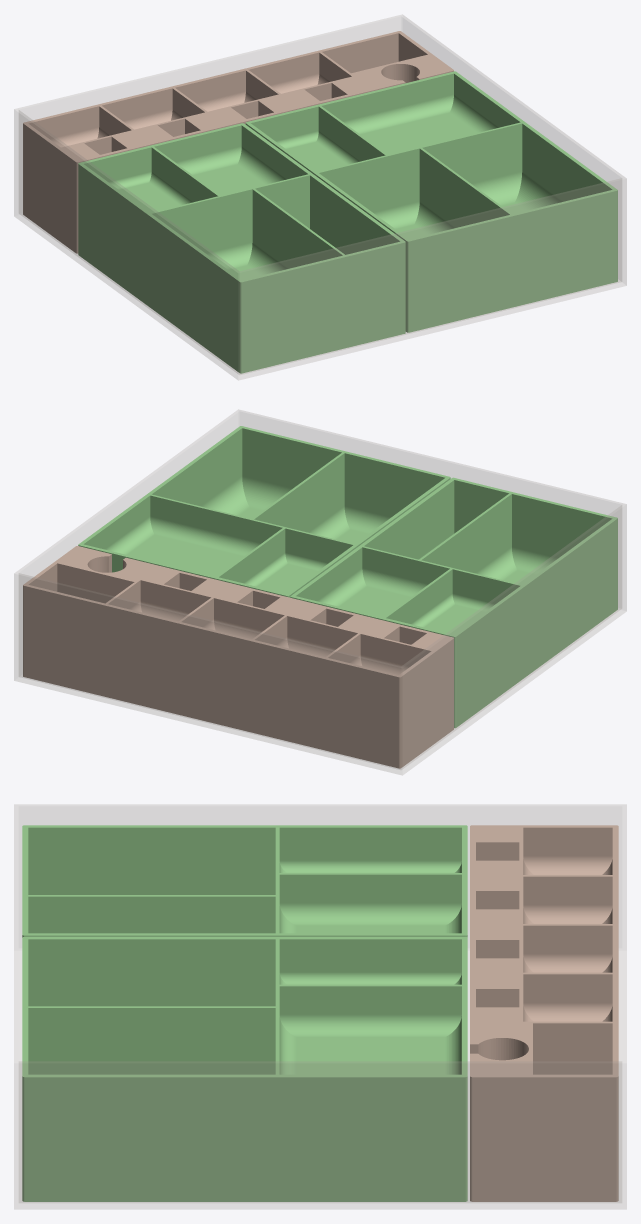
Rendered from organizer.glb.
3 renders of one model, top to bottom at view 1: azimuth 30°, elevation 25°; view 2: azimuth 150°, elevation 25°; view 3: azimuth 270°, elevation 25°, orthographic. The views are drawn at different scales.
Visible parts, largest first — view 1: Game box (preview only), Red Player Components, Blue Player Components, Shared Dice and Battle Tokens; view 2: Game box (preview only), Shared Dice and Battle Tokens, Red Player Components, Blue Player Components; view 3: Blue Player Components, Game box (preview only), Shared Dice and Battle Tokens, Red Player Components.
Boxes of the visible parts, left/top/right/bottom form: Game box (preview only): left=14, top=14, right=626, bottom=380; Red Player Components: left=78, top=123, right=405, bottom=373; Blue Player Components: left=245, top=71, right=617, bottom=332; Shared Dice and Battle Tokens: left=23, top=31, right=453, bottom=253; Game box (preview only): left=14, top=409, right=626, bottom=775; Shared Dice and Battle Tokens: left=23, top=546, right=453, bottom=768; Red Player Components: left=290, top=477, right=617, bottom=728; Blue Player Components: left=78, top=426, right=450, bottom=597; Blue Player Components: left=22, top=936, right=467, bottom=1201; Game box (preview only): left=14, top=804, right=626, bottom=1209; Shared Dice and Battle Tokens: left=470, top=825, right=618, bottom=1201; Red Player Components: left=22, top=825, right=467, bottom=937.
Size of the model in its own units: 0.254 by 0.067 by 0.254.
